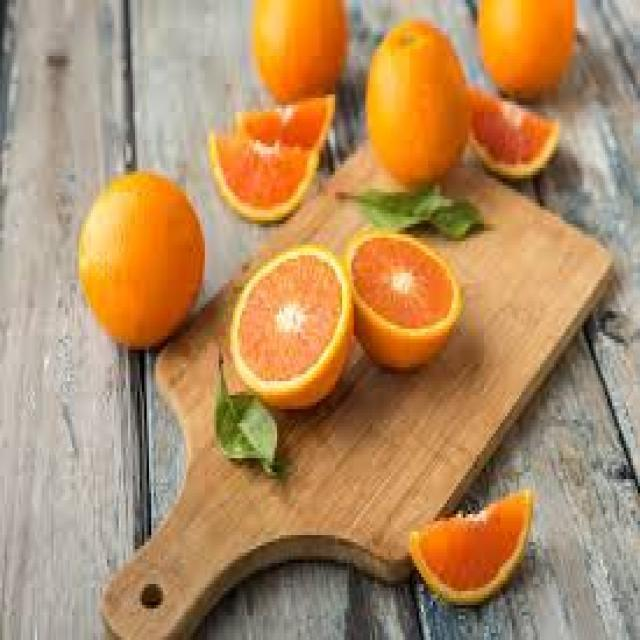Orange: (77, 168, 205, 350), (228, 241, 354, 409), (363, 18, 468, 186), (345, 228, 463, 370), (474, 0, 578, 98), (249, 0, 349, 101)
